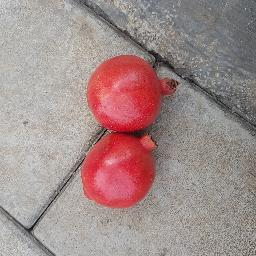Good_pomegranate: (83, 54, 176, 134), (76, 136, 163, 205)
